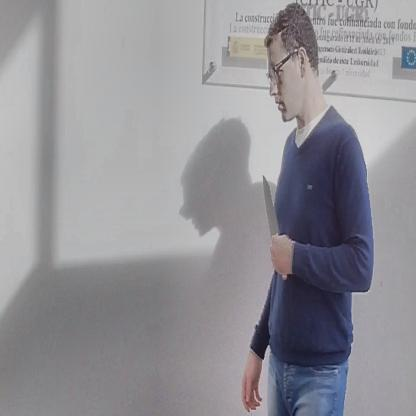knife: (258, 165, 290, 283)
